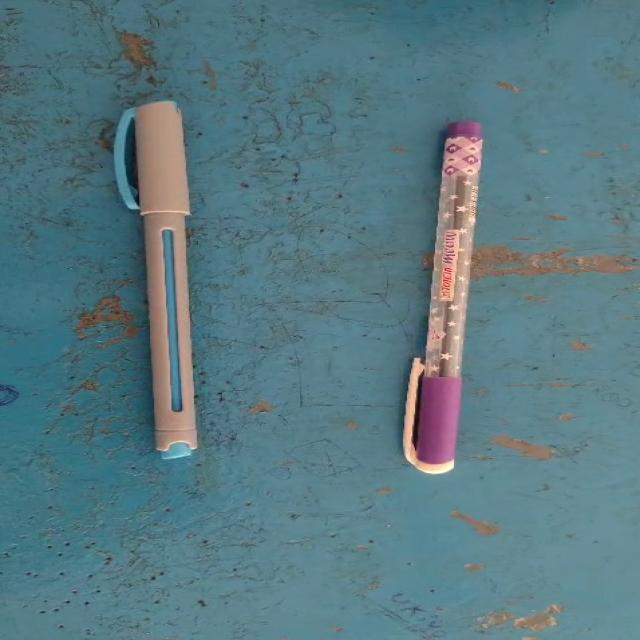pen: (348, 73, 562, 498), (54, 72, 274, 478)
